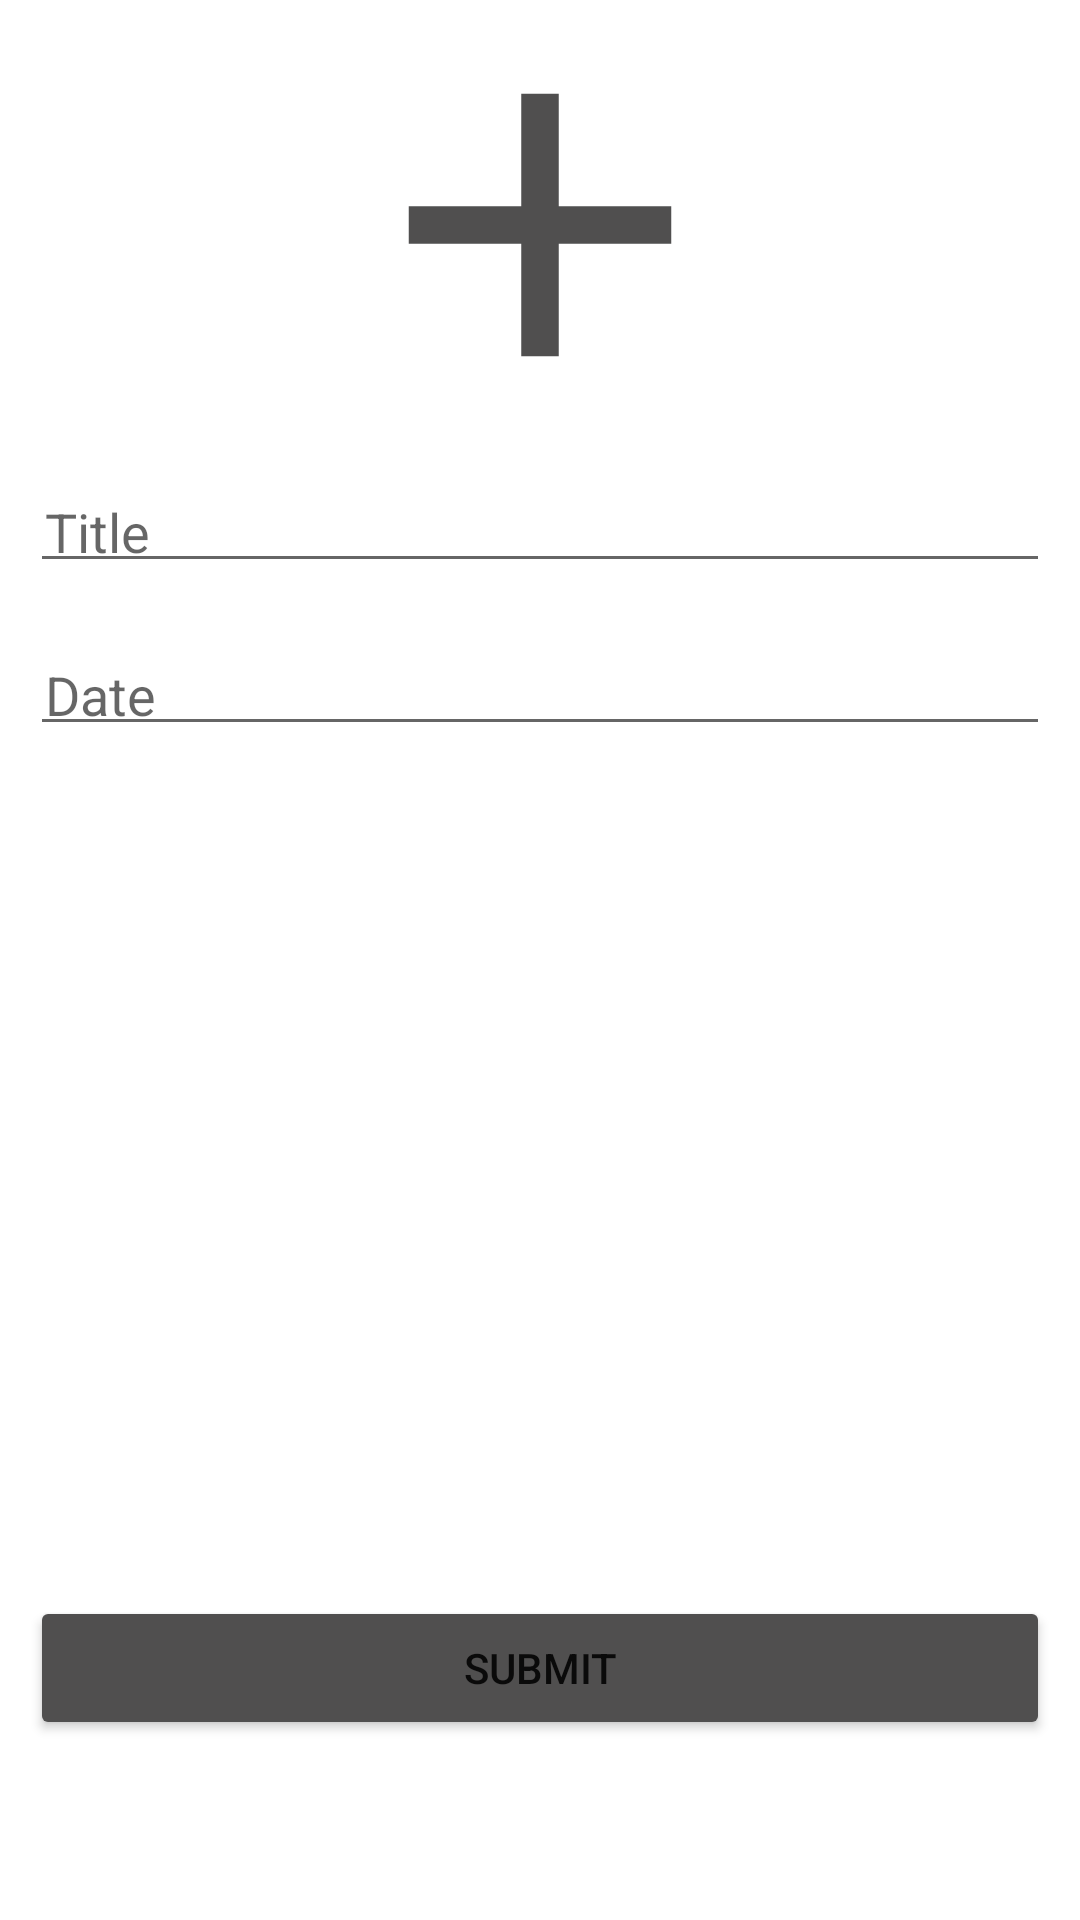

Named icons in this screenshot (1080×1920) and their centers, [x,y]:
add: [540,225]
